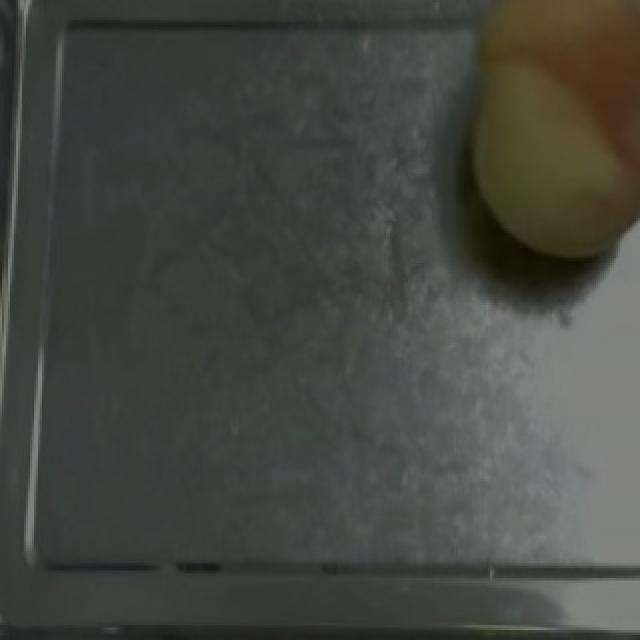Fruit: (438, 0, 640, 278)
